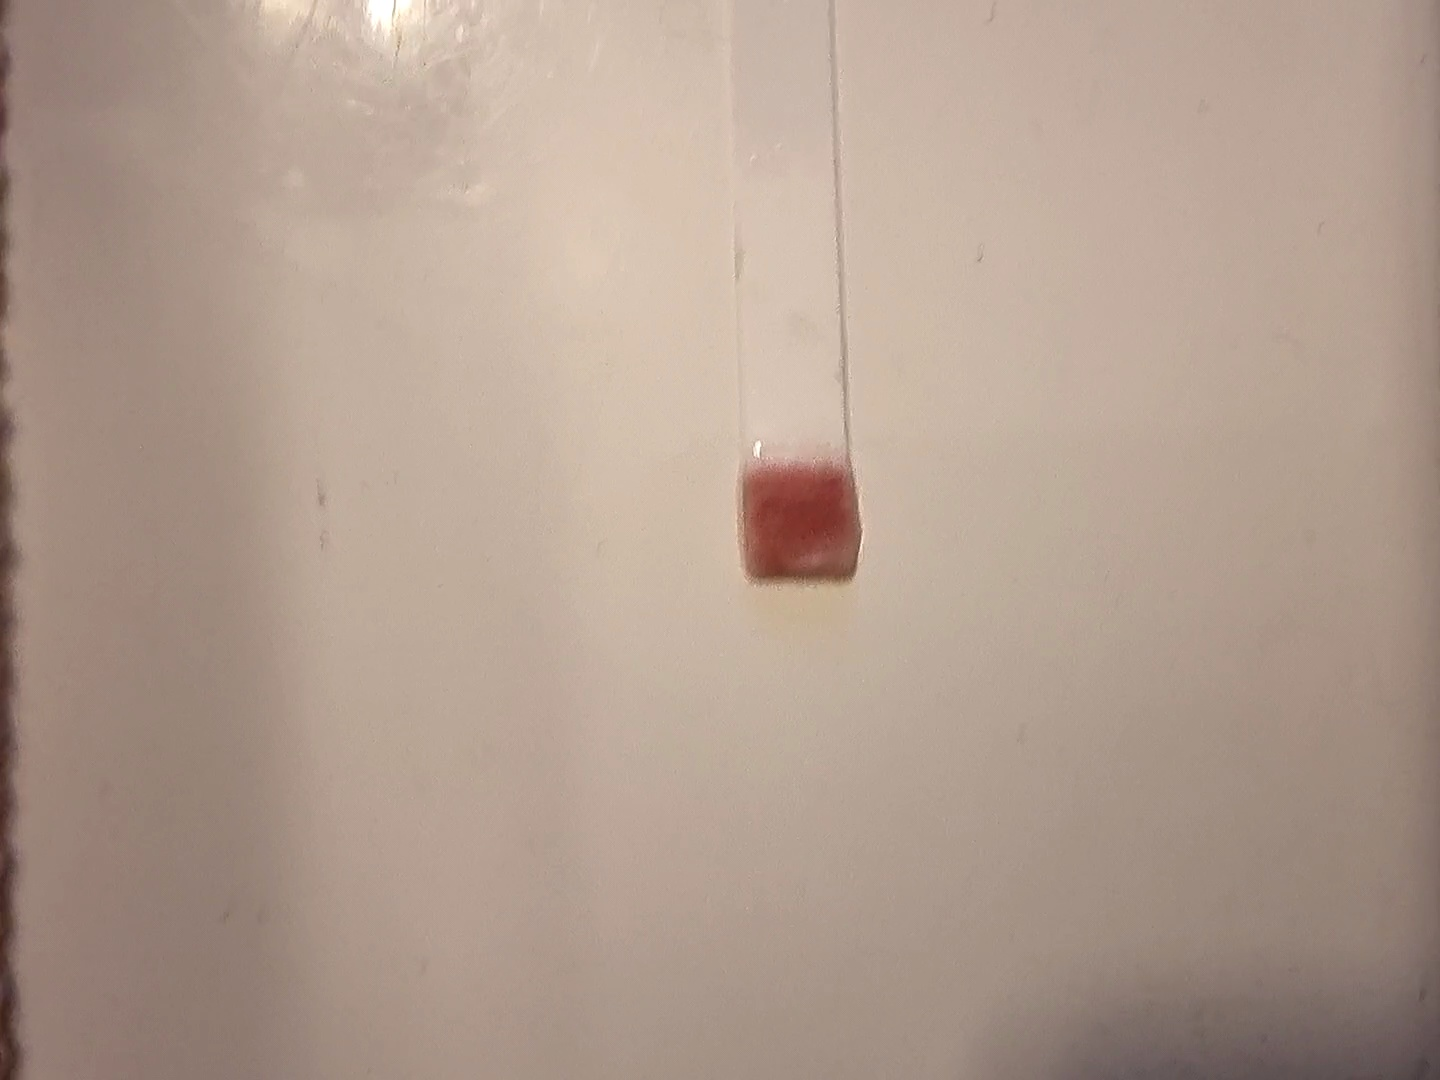keto-tip: (737, 452, 866, 583)
